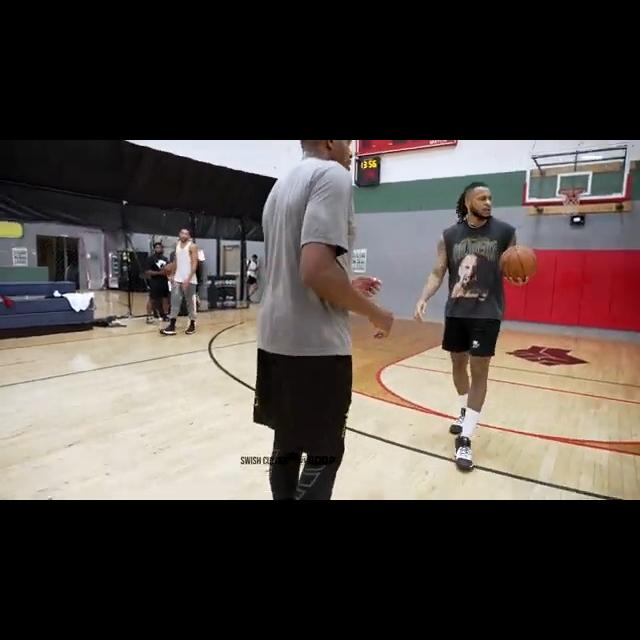basketball: (499, 244, 538, 281)
hoop: (559, 187, 585, 218)
person: (253, 140, 394, 499), (414, 181, 518, 475), (159, 228, 198, 338), (146, 243, 171, 325), (244, 253, 261, 303)
